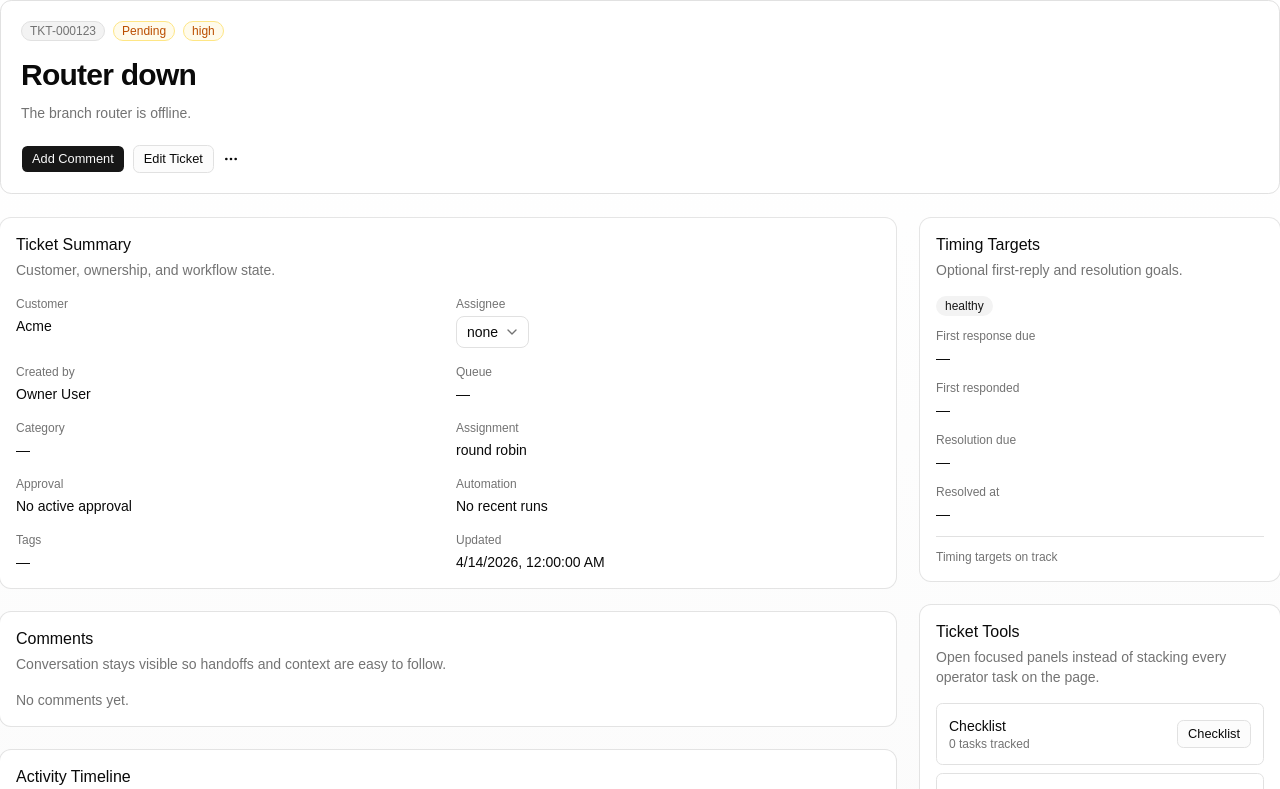
Test: TicketDetailsPage mutations › renders readable activity labels instead of raw event names
Step 1. Click the button named "More actions for TKT-000123" → click(231, 159), box [222,145,240,173]
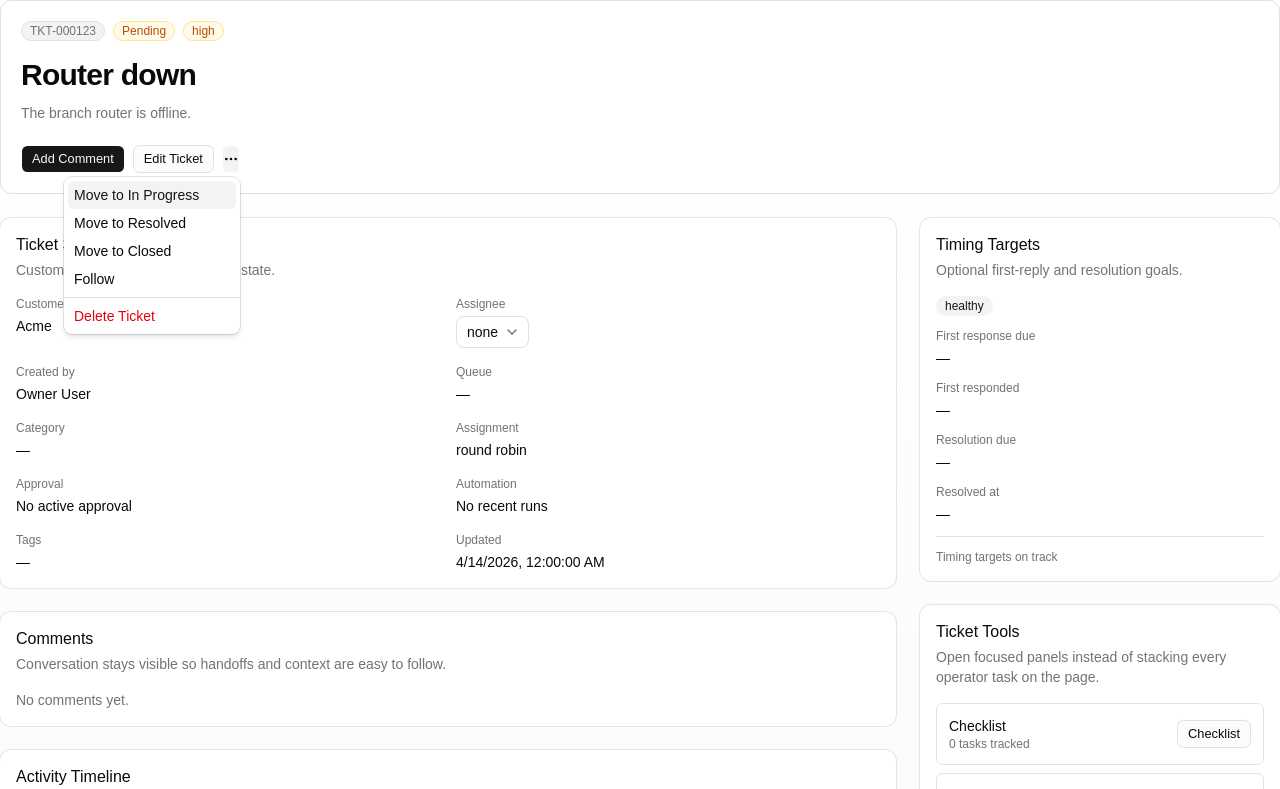
Expected: the menu is shown, [64,177,240,334]
Expected: the menu item "Move to In Progress" is shown, [68,181,236,209]
Expected: the menu item "Move to Resolved" is shown, [74,215,186,231]
